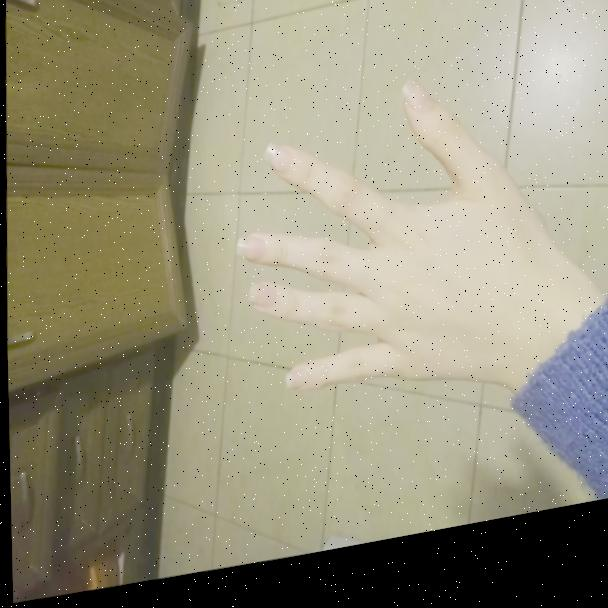five: (220, 68, 524, 441)
